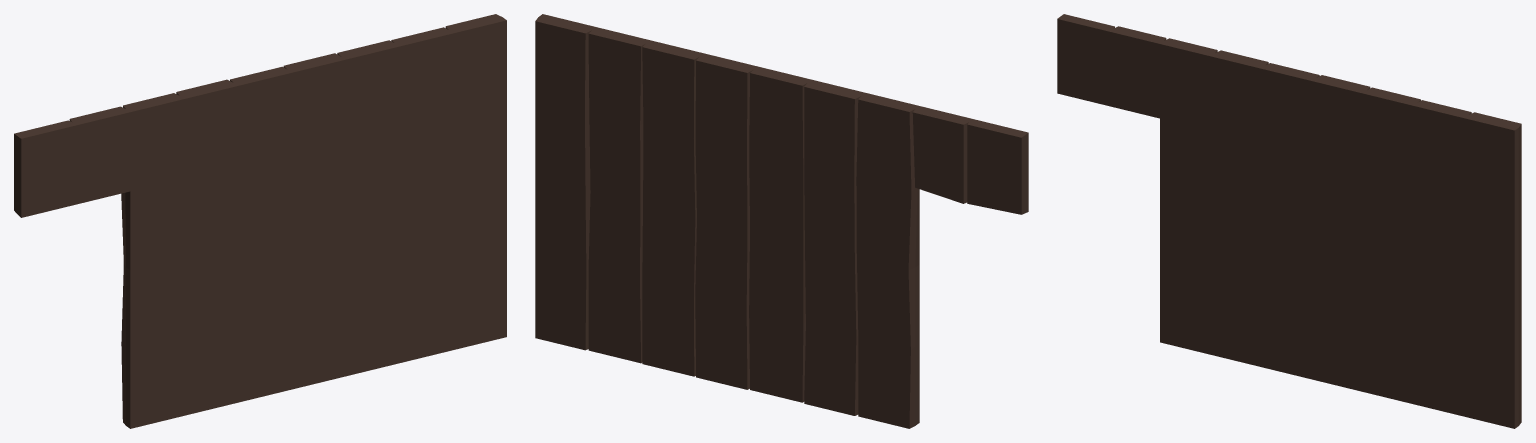
File: DoorWallR.fbx
3 views of the same model, side by side, from view 1: azimuth 30°, elevation 25°; view 2: azimuth 150°, elevation 25°; view 3: azimuth 330°, elevation 25° (orthographic). The views are drawn at different scales.
Parts seen in each view (by area): view 1: DoorWallR; view 2: DoorWallR; view 3: DoorWallR.
Boxes of the visible parts, x1,y1,x2,y2 form: DoorWallR: (14,14,506,428); DoorWallR: (535,14,1028,428); DoorWallR: (1057,14,1521,428).
Size of the model in its own units: 9.04 by 5.63 by 0.2996.
